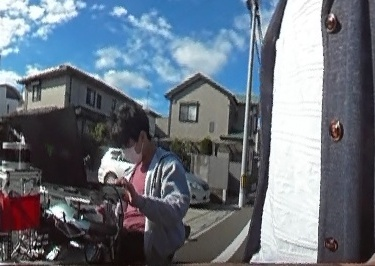person: (93, 95, 206, 262)
